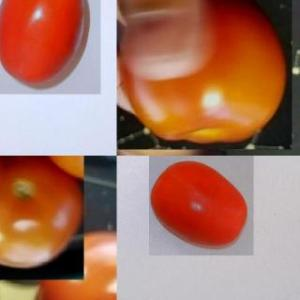tomato: (118, 1, 292, 150), (149, 156, 253, 256), (1, 156, 84, 280), (0, 1, 100, 94), (34, 224, 116, 300)
